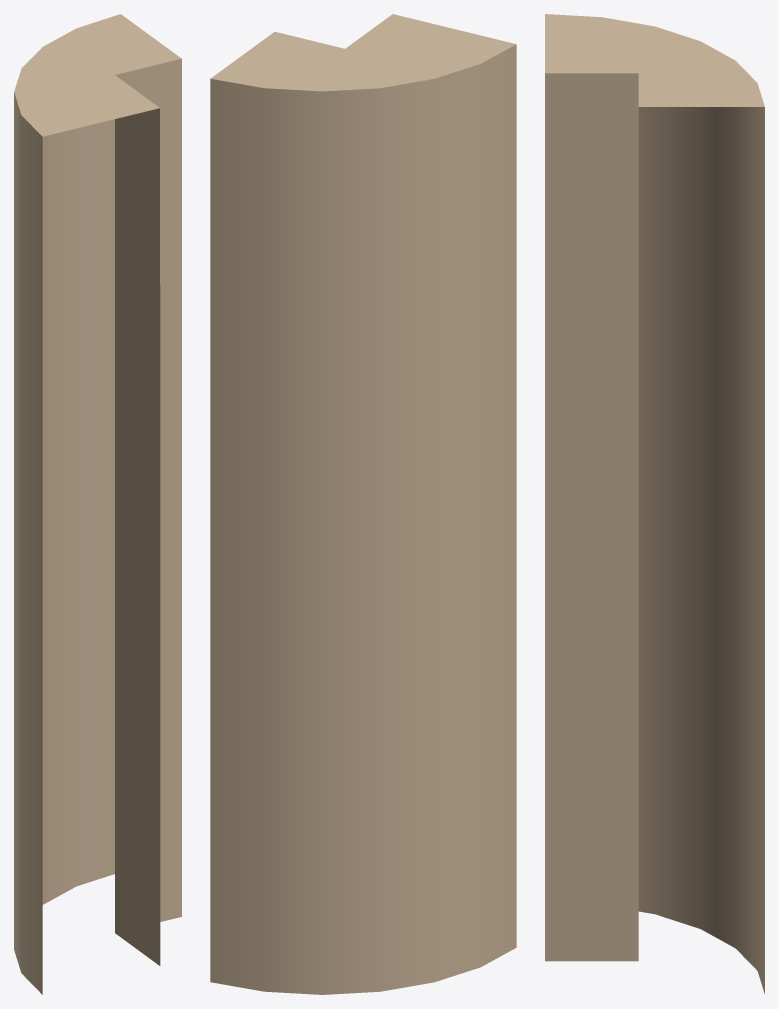
File: wall5.glb
3 views of the same model, side by side, from view 1: azimuth 30°, elevation 25°; view 2: azimuth 150°, elevation 25°; view 3: azimuth 270°, elevation 25° (orthographic). The views are drawn at different scales.
Visible parts, largest first — view 1: wall_Corner; view 2: wall_Corner; view 3: wall_Corner.
Part boxes in pixels (x1,y1,x2,y2): wall_Corner: [14, 14, 181, 994]; wall_Corner: [210, 14, 516, 994]; wall_Corner: [545, 14, 764, 993].
Bounding box in the file's own units: 0.5252 × 2.33 × 0.5243.
1 material, 1 textured.
